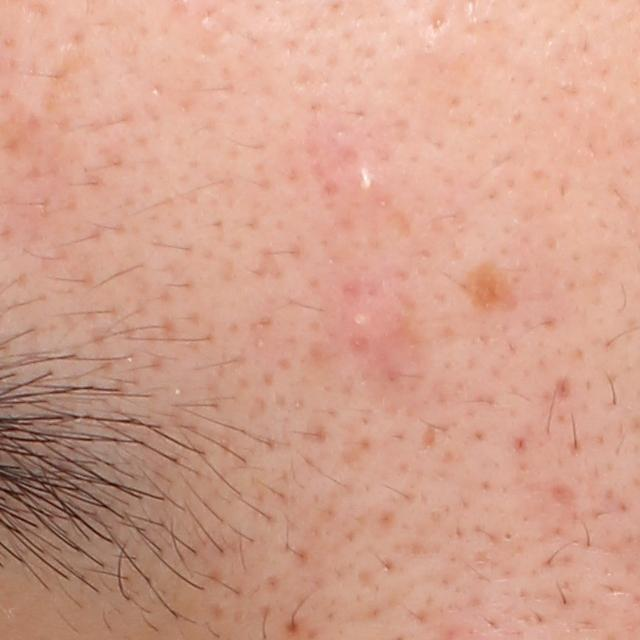pustule: (344, 164, 384, 198)
